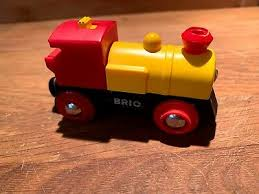brio: (45, 16, 219, 140)
